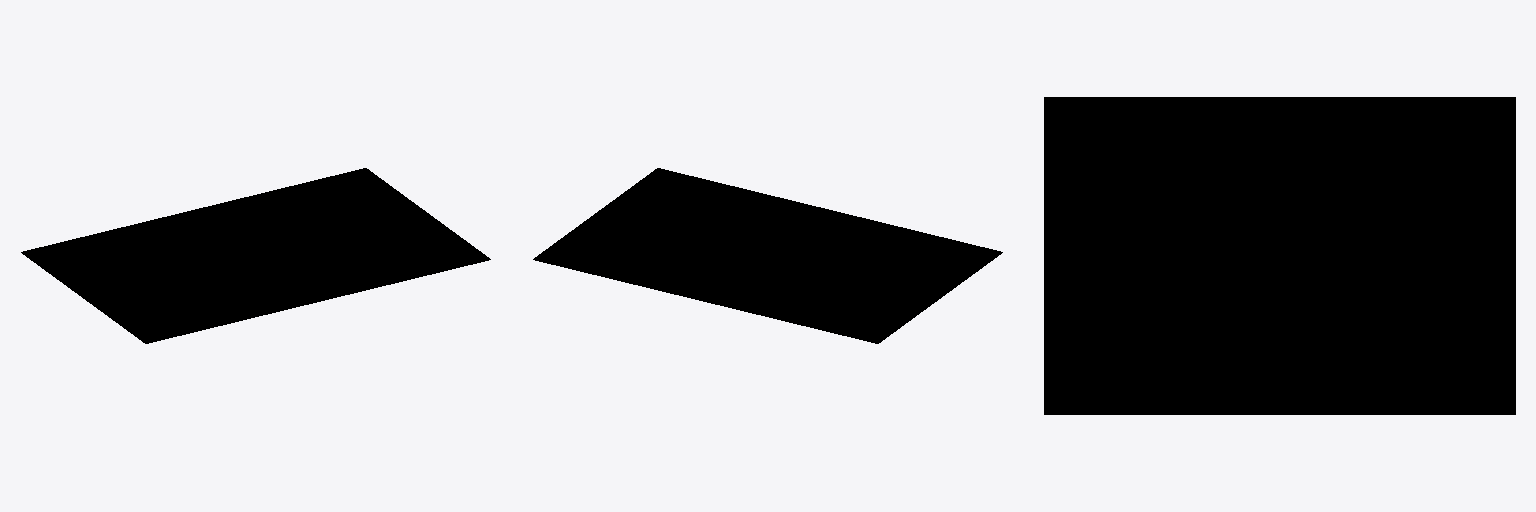
The robot description file, URDF, robot "room83b1-83b1-ground":
<?xml version="1.0"?>
<robot name="room83b1-83b1-ground"
       xmlns:xi="http://www.w3.org/2001/XInclude"
       xmlns:gazebo="http://playerstage.sourceforge.net/gazebo/xmlschema/#gz"
       xmlns:model="http://playerstage.sourceforge.net/gazebo/xmlschema/#model"
       xmlns:sensor="http://playerstage.sourceforge.net/gazebo/xmlschema/#sensor"
       xmlns:body="http://playerstage.sourceforge.net/gazebo/xmlschema/#body"
       xmlns:geom="http://playerstage.sourceforge.net/gazebo/xmlschema/#geom"
       xmlns:joint="http://playerstage.sourceforge.net/gazebo/xmlschema/#joint"
       xmlns:interface="http://playerstage.sourceforge.net/gazebo/xmlschema/#interface"
       xmlns:rendering="http://playerstage.sourceforge.net/gazebo/xmlschema/#rendering"
       xmlns:renderable="http://playerstage.sourceforge.net/gazebo/xmlschema/#renderable"
       xmlns:controller="http://playerstage.sourceforge.net/gazebo/xmlschema/#controller"
       xmlns:physics="http://playerstage.sourceforge.net/gazebo/xmlschema/#physics">
  <gazebo>
    <static>false</static>
  </gazebo>
  <link name="nil_link">
    <visual>
      <origin xyz="0 0 0" rpy="0 -0 0"/>
      <geometry>
        <mesh filename="model://room83b1-83b1-ground/meshes/nil_link_mesh.dae" scale="1 1 1" />
      </geometry>
    </visual>
    <collision>
      <origin xyz="0 0 0" rpy="0 -0 0"/>
      <geometry>
        <mesh filename="model://room83b1-83b1-ground/meshes/nil_link_mesh.dae" scale="1 1 1" />
      </geometry>
    </collision>
    <inertial>
      <mass value="0.001" />
      <origin xyz="0 0 0" rpy="0 -0 0"/>
      <inertia ixx="1e-09" ixy="0" ixz="0" iyy="1e-09" iyz="0" izz="1e-09"/>
    </inertial>
  </link>
  <gazebo reference="nil_link">
    <mu1>0.9</mu1>
    <mu2>0.9</mu2>
  </gazebo>
</robot>

--- Render facts (derived) ---
The picture shows the robot from 3 angles, left to right: view 1: azimuth 30°, elevation 25°; view 2: azimuth 150°, elevation 25°; view 3: azimuth 270°, elevation 25°; orthographic projection.
Robot: room83b1-83b1-ground — 1 links, 0 joints (none); root link nil_link; default pose: every joint at zero.
Links seen in each view (by area): view 1: nil_link; view 2: nil_link; view 3: nil_link.
Link boxes in pixels (<box>): nil_link: <box>21,168,490,343</box>; nil_link: <box>533,168,1002,343</box>; nil_link: <box>1044,97,1515,414</box>.
Size in the robot's own frame: 11.35 by 7.13 by 0.01 metres.
Meshes: 1 distinct files referenced, 1 mesh visuals loaded (1 Collada DAE).
